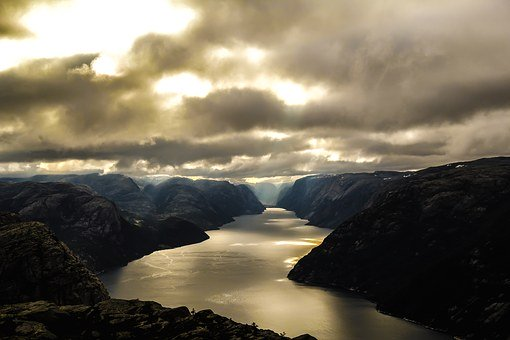lake: (138, 195, 406, 340)
mountain: (11, 170, 496, 340)
sky: (4, 4, 508, 164)
